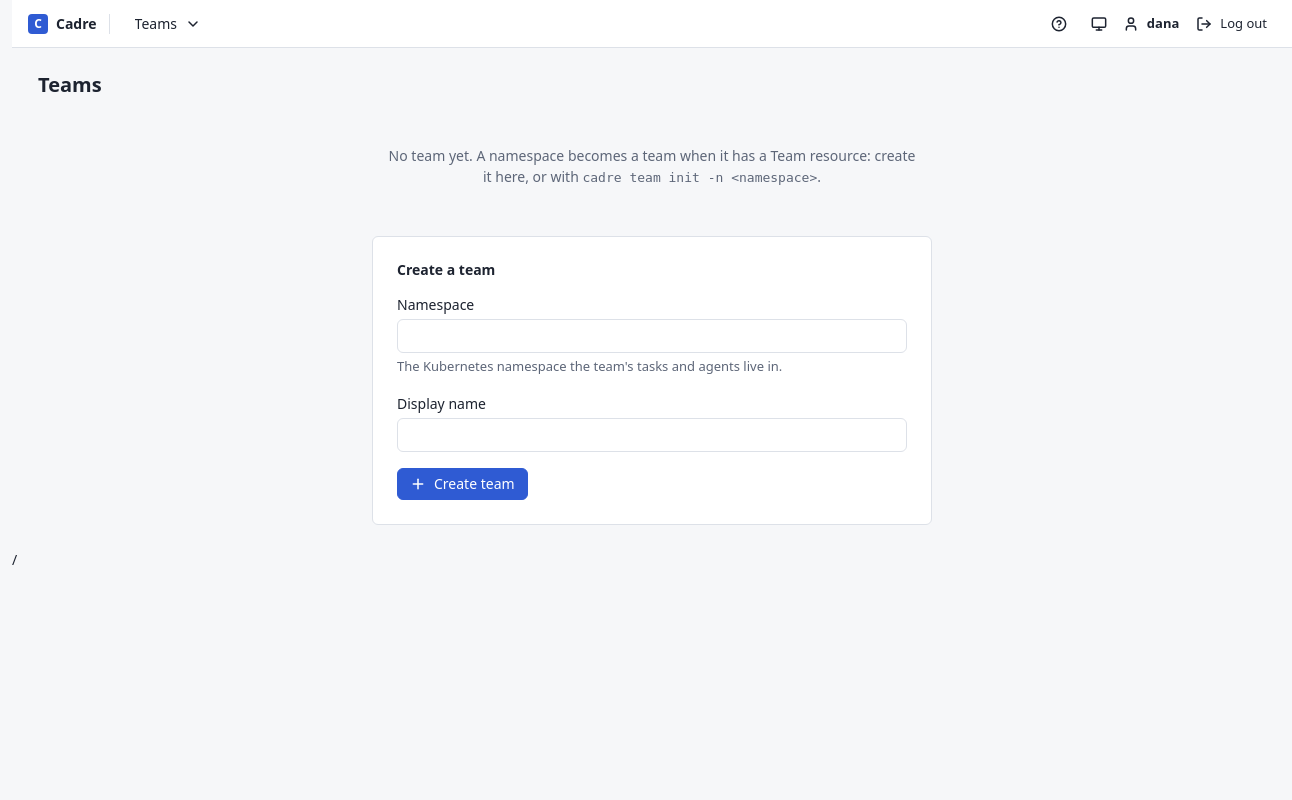
Scenario: Teams, with no team yet › lets a bootstrap admin create one, and opens its board
Type "x" into the field labelled "Namespace" at x=652, y=336, box [397,319,907,353]
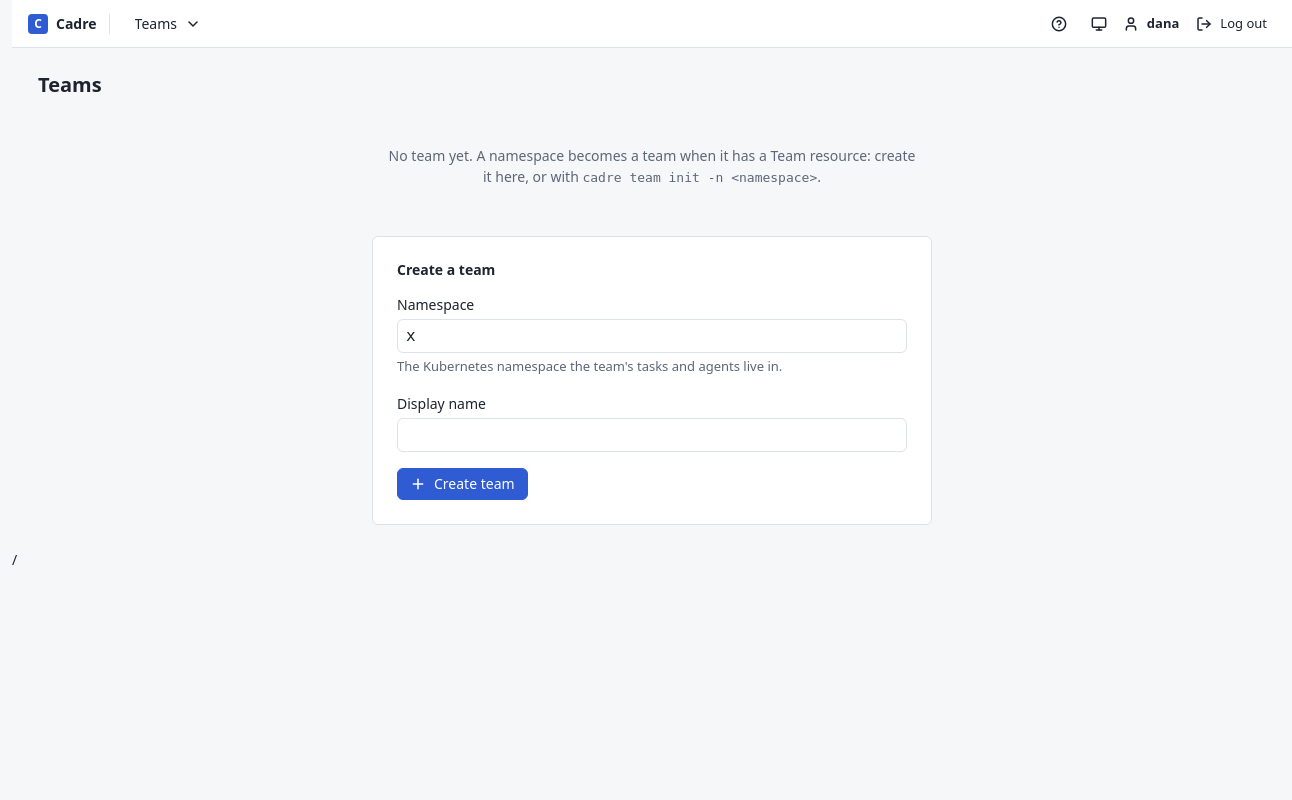
Type "Team X" into the field labelled "Display name" at x=652, y=434, box [397,418,907,452]
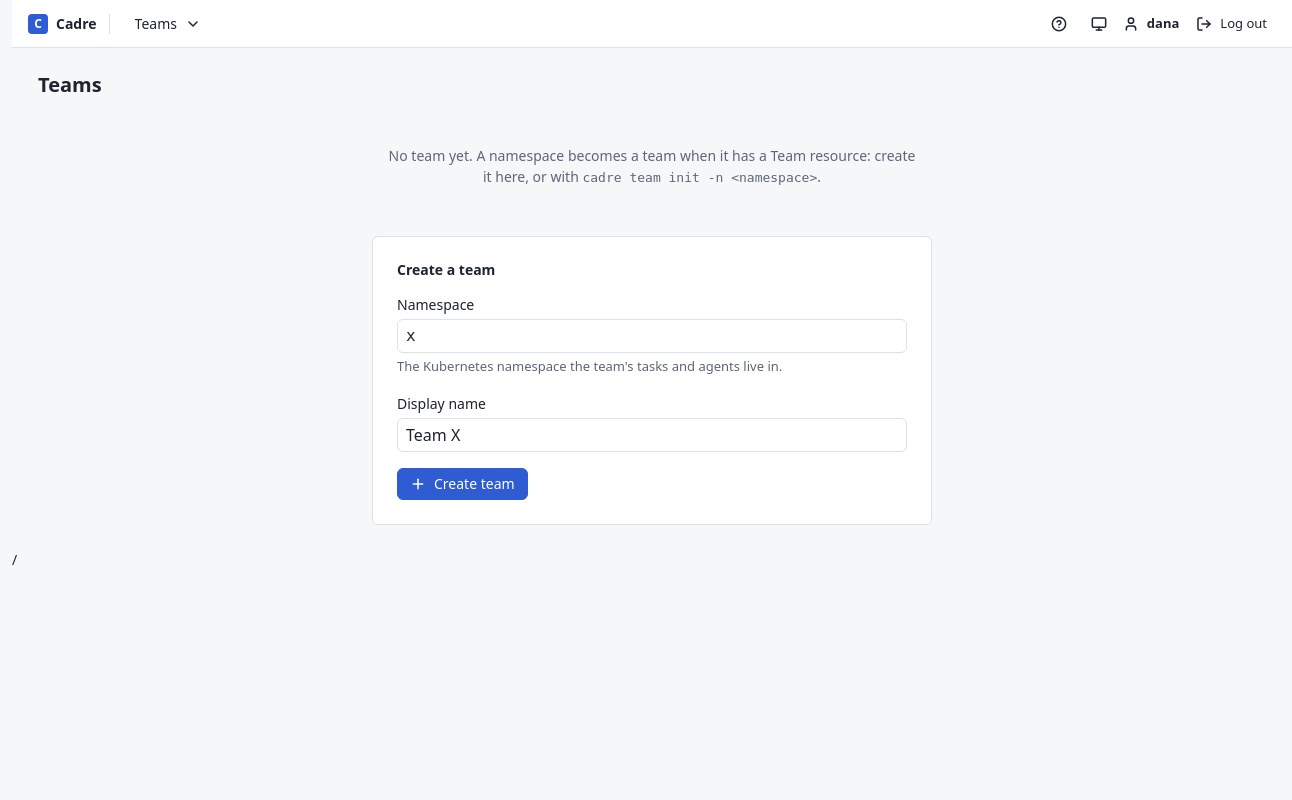
Click the button "Create team" at x=462, y=484, box [397,468,528,500]
(page scrolled)
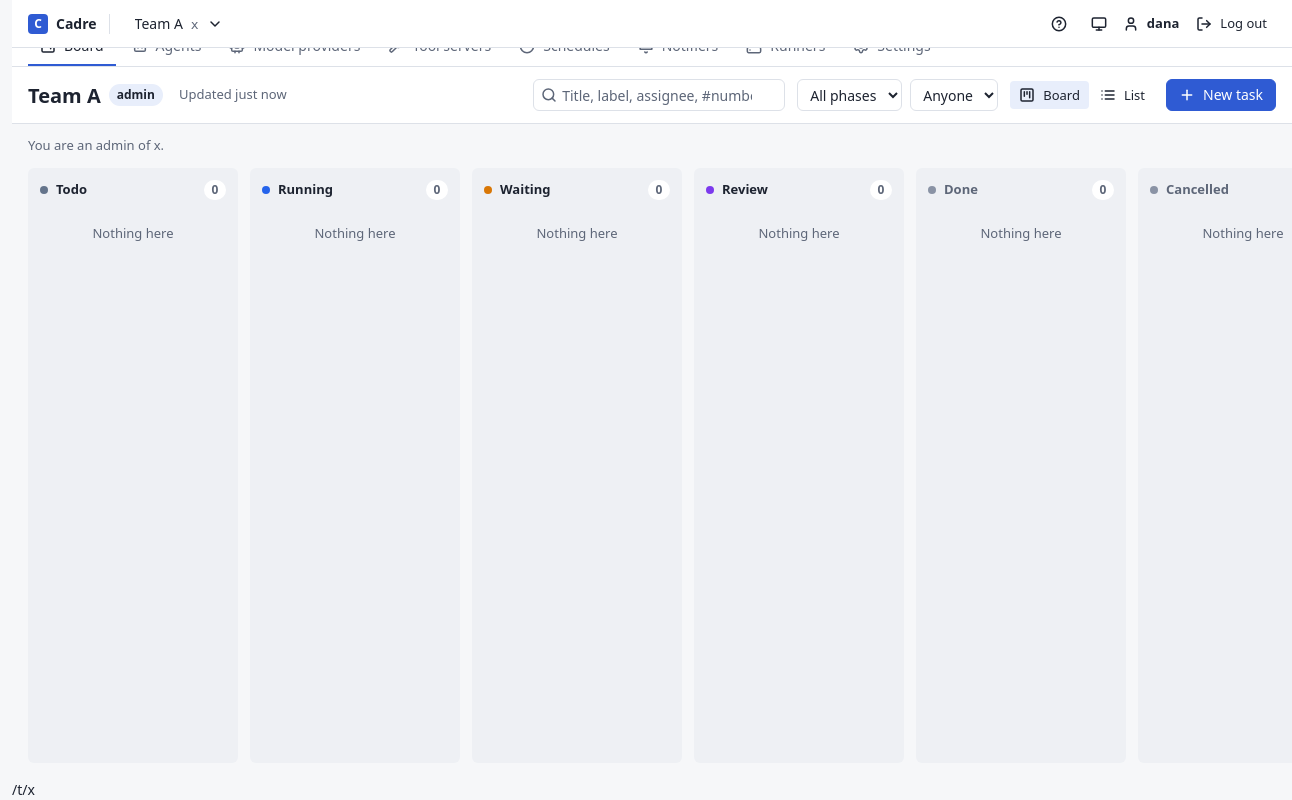
Now the text with test id "where" reads "/t/x", box [12,780,35,799]
